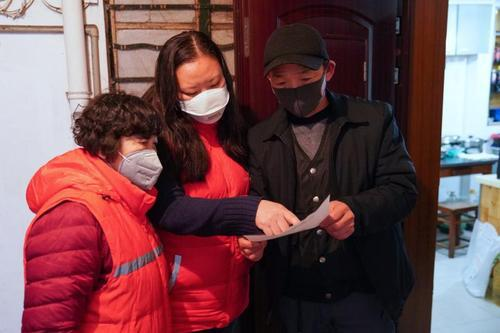mask: (110, 139, 164, 192), (268, 78, 328, 120), (174, 88, 235, 123)
